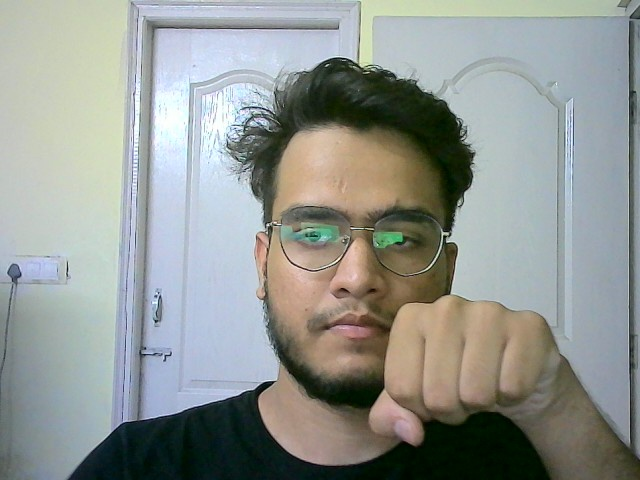Yes: (375, 292, 569, 445)
